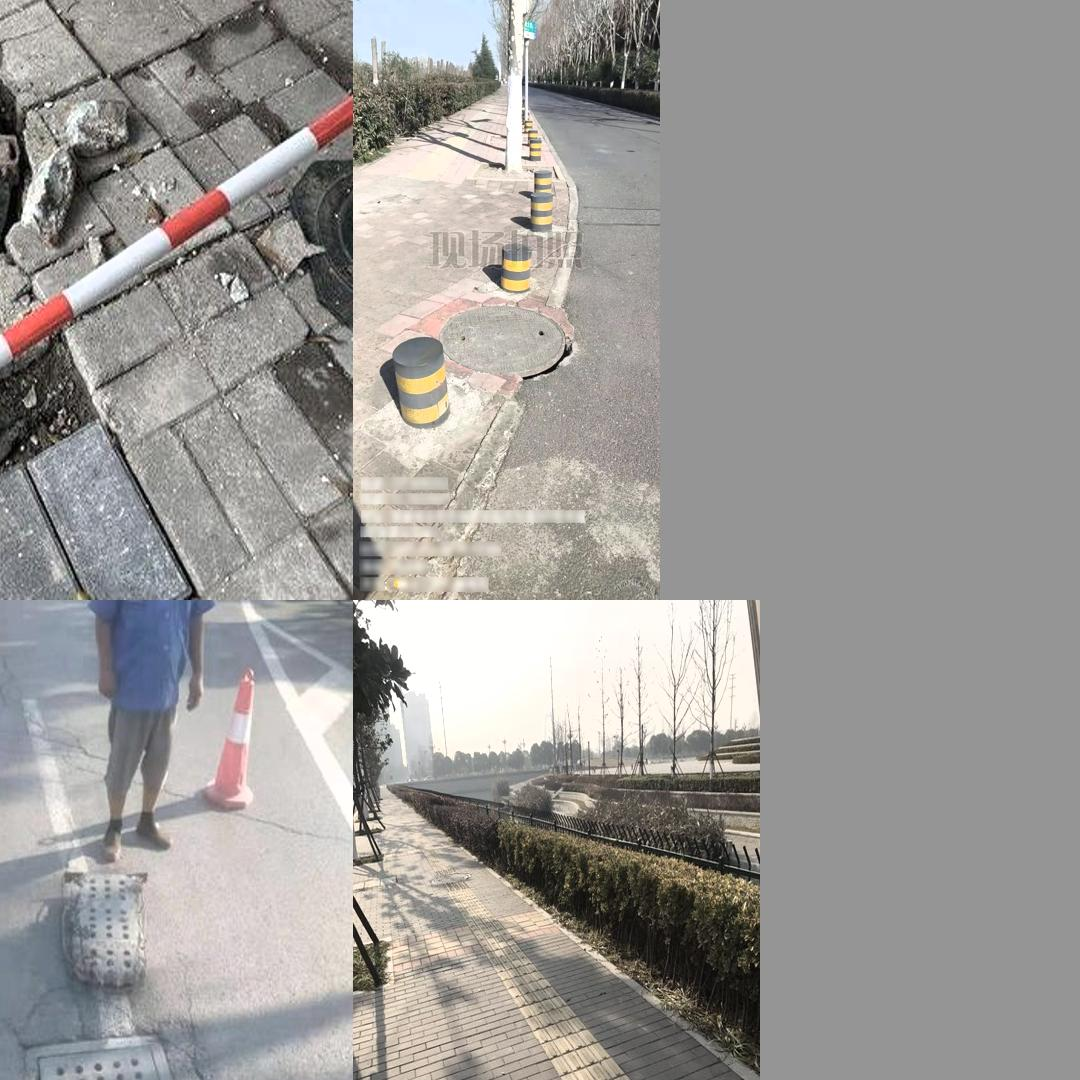circle: (0, 0, 102, 566), (0, 1001, 286, 1080), (436, 299, 575, 385)
